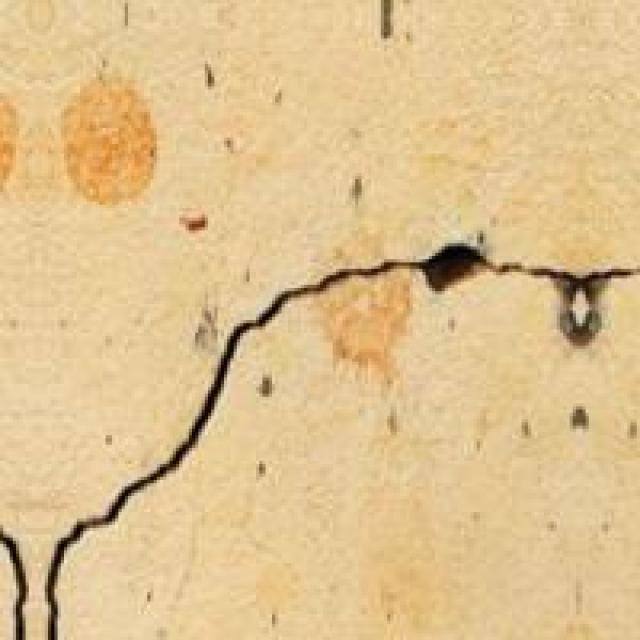crack: (0, 227, 637, 637)
